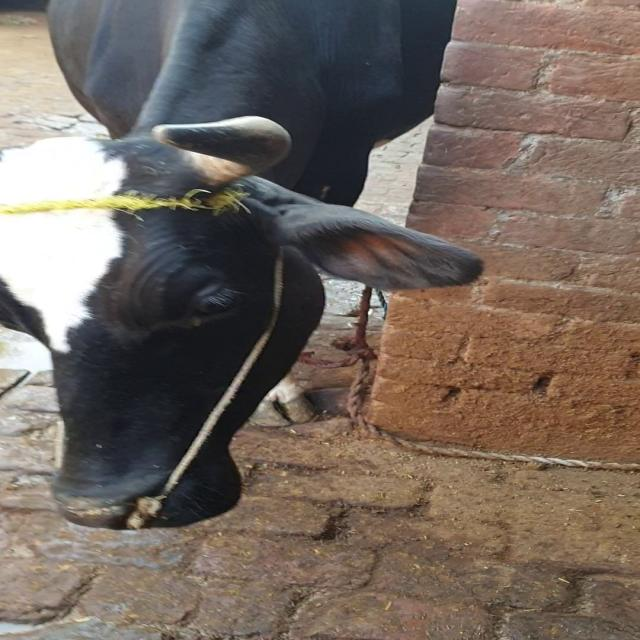cowFace: (0, 108, 273, 537)
